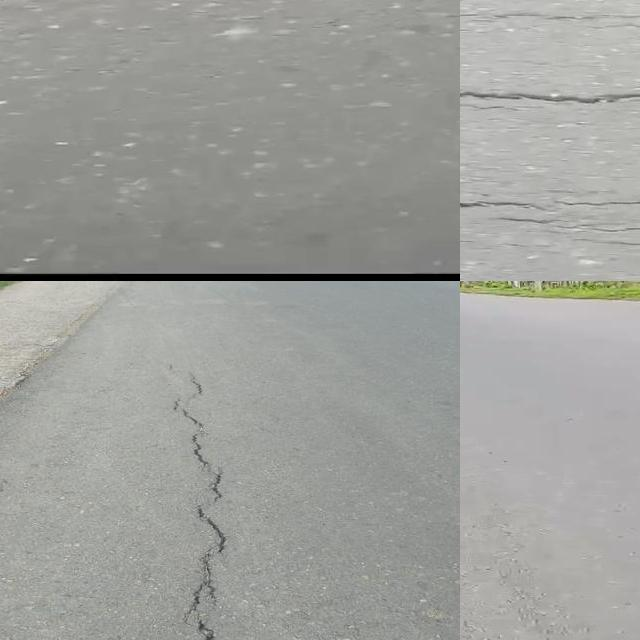Melintang: (460, 70, 640, 115)
Memanjang: (164, 354, 240, 640)
